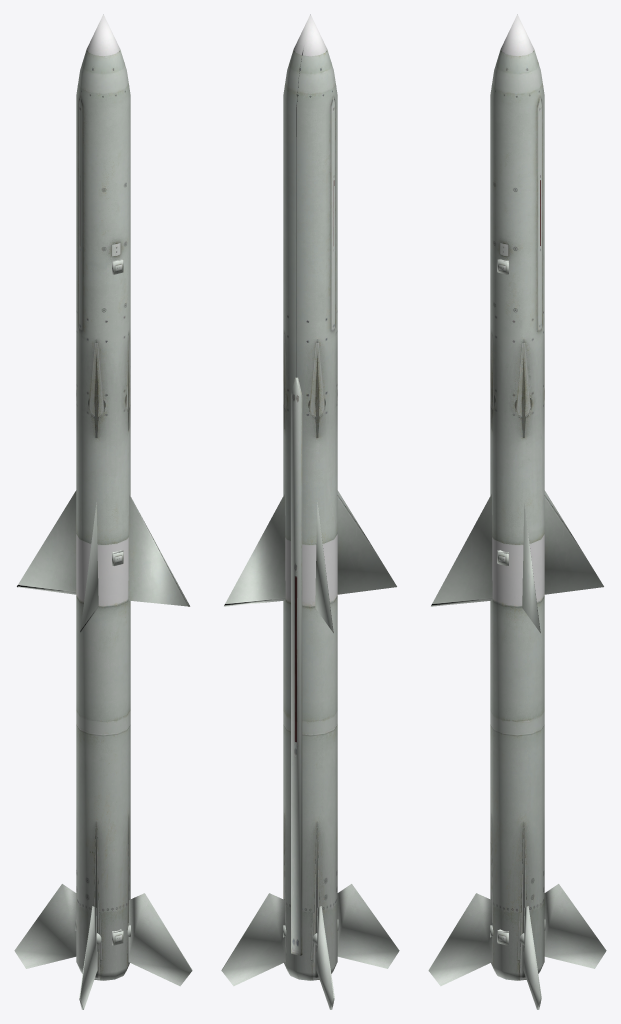
3 renders of one model, left to right at view 1: azimuth 30°, elevation 25°; view 2: azimuth 150°, elevation 25°; view 3: azimuth 330°, elevation 25°, orthographic.
Parts seen in each view (by area): view 1: PL-11 (2); view 2: PL-11 (2); view 3: PL-11 (2).
Boxes of the visible parts, x1,y1,x2,y2 form: PL-11 (2): (14,14,192,1009); PL-11 (2): (221,14,399,1009); PL-11 (2): (428,14,606,1009).
Bounding box in the file's own units: 0.2959 × 2.4 × 0.2959.
1 material, 1 textured.
